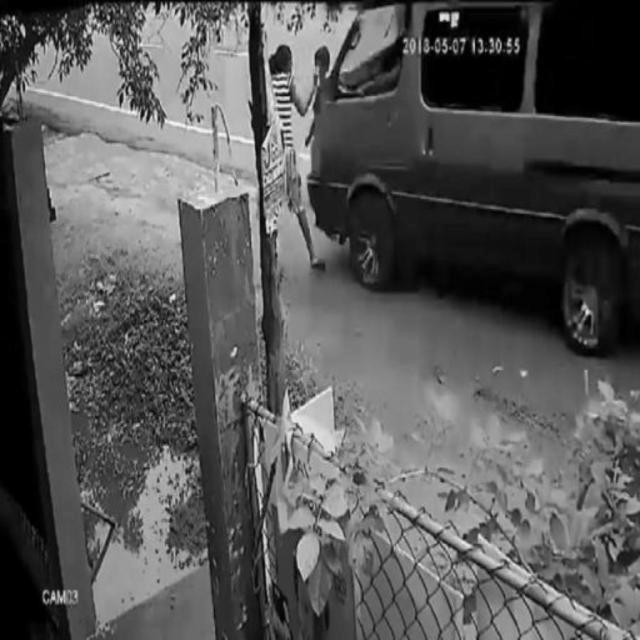accident: (306, 5, 640, 355)
person: (259, 46, 314, 279)
